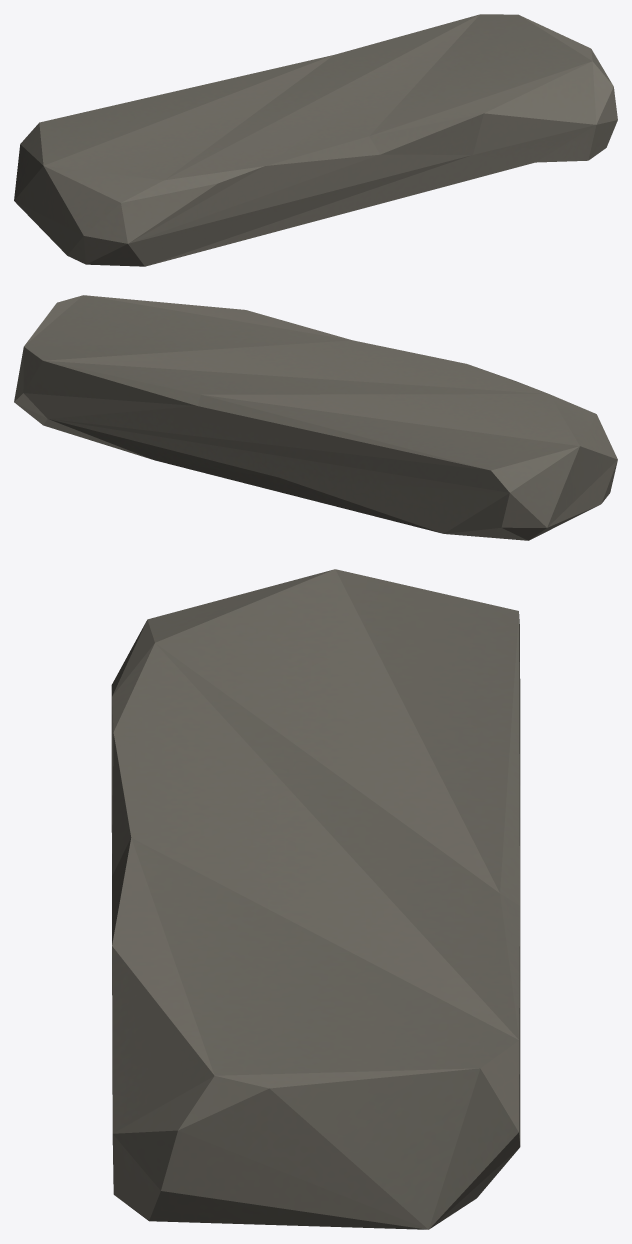
File: Stair_3A.fbx
The picture shows the model from 3 angles, top to bottom: view 1: azimuth 30°, elevation 25°; view 2: azimuth 150°, elevation 25°; view 3: azimuth 270°, elevation 25°; orthographic projection. The views are drawn at different scales.
Visible parts, largest first — view 1: Group6450; view 2: Group6450; view 3: Group6450.
Boxes of the visible parts, bbox=[...] form: Group6450: bbox=[14, 14, 617, 266]; Group6450: bbox=[14, 295, 617, 540]; Group6450: bbox=[111, 569, 520, 1229].
Size of the model in its own units: 302 by 40.06 by 100.
Materials: 1 (1 with a texture image).
